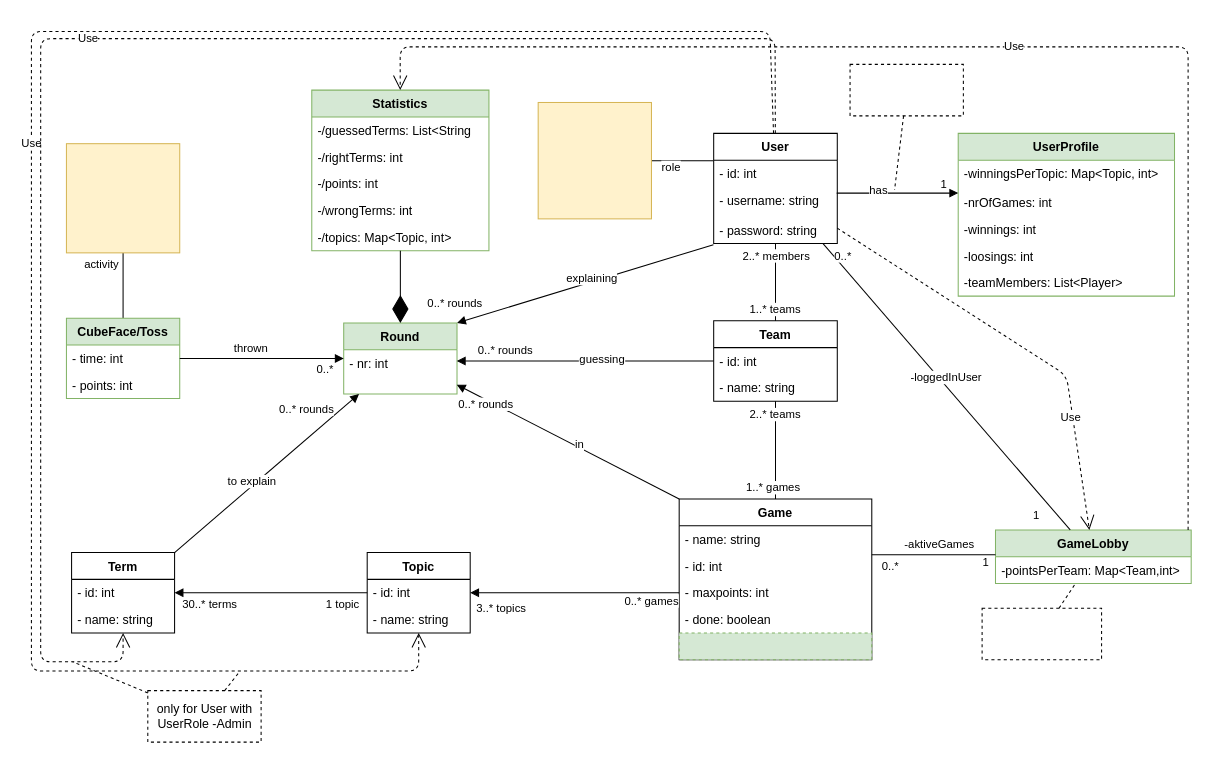
Image size: 1221x760. Some labels were removed from this diagram. The centre of each missing label's shape, as x and y in pixels:
"-roundNo: int" belongs at (775,646).
"<<enumeration>> Activity Draw Mime Talk Rhyme" belongs at (122,198).
"<<enumeration>> UserRole Player PlayerHost GameAdmin SystemAdmin" belongs at (594,160).
"configuration takes place through PlayerHost" belongs at (1041,633).
"only for User with UserRole Player /PlayerHost" belongs at (906,89).
